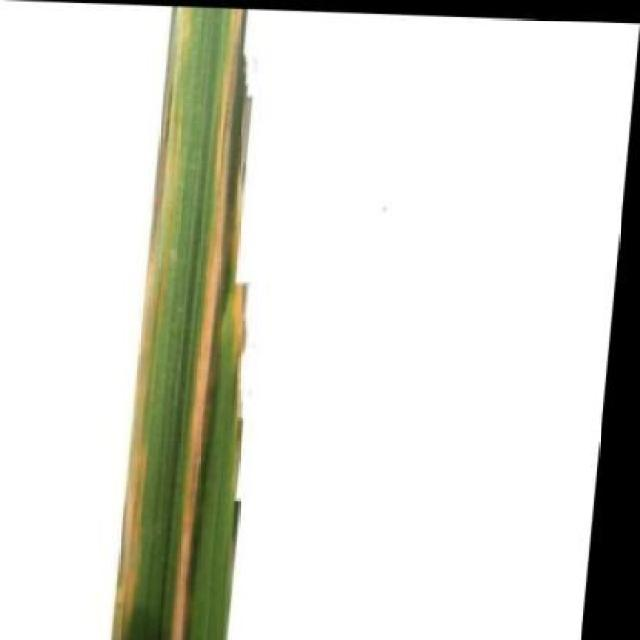Brown_Spot: (115, 4, 293, 640)
